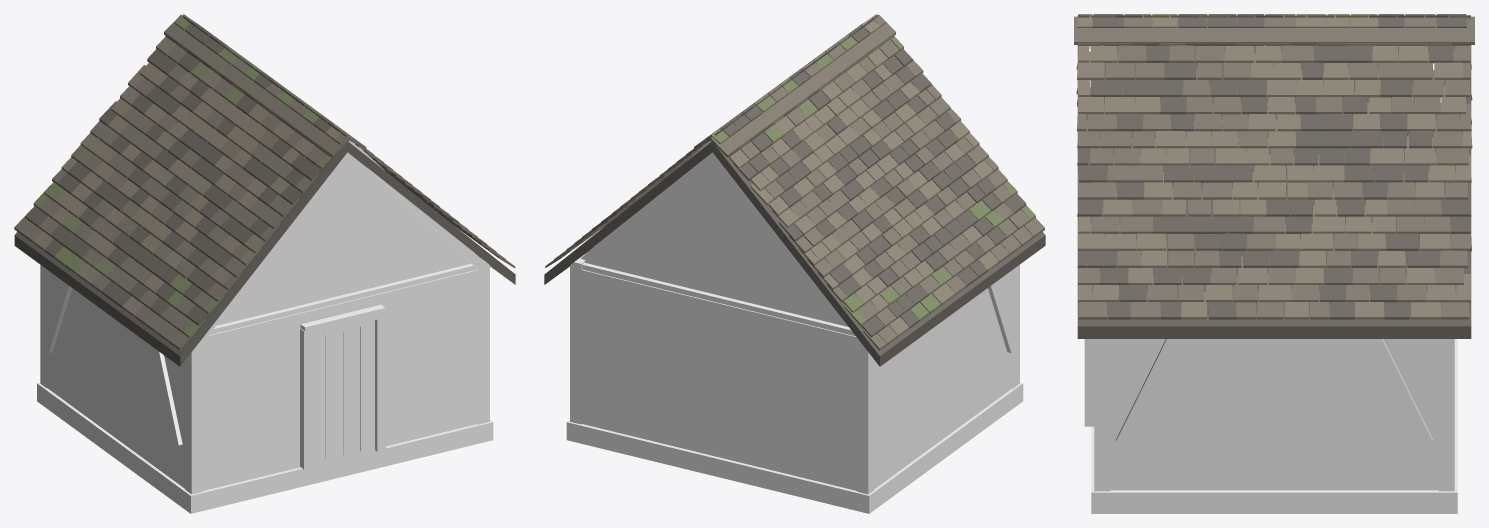
Rendered from cottage_B.glb.
3 views of the same model, side by side, from view 1: azimuth 30°, elevation 25°; view 2: azimuth 150°, elevation 25°; view 3: azimuth 270°, elevation 25° (orthographic). The views are drawn at different scales.
Parts seen in each view (by area): view 1: 09A_ShingleField.001, 08A_GableClay.002, 08A_FrontClay.003, 08A_FrontClay.002, 08A_SideClay.002, 08A_Sill.001, 08A_Door.001, 09A_Deck.002, 09A_RidgeCap.002, 08A_CornerPost.004, 08A_EndWallPlate.002, 09A_Deck.003 (+9 smaller); view 2: 09A_ShingleField.001, 08A_RearClay.001, 08A_GableClay.003, 08A_SideClay.002, 08A_Sill.001, 09A_Deck.002, 09A_RidgeCap.002, 08A_CornerPost.005, 08A_EndWallPlate.003, 09A_Deck.003, 08A_CornerPost.007, 08A_CornerPost.004 (+2 smaller); view 3: 09A_ShingleField.001, 08A_SideClay.003, 09A_Deck.003, 08A_Sill.001, 09A_RidgeCap.003, 08A_CornerPost.006, 08A_CornerPost.007, 08A_SideBrace.006, 08A_SideBrace.007, 08A_DoorJamb.003.
Boxes of the visible parts, x1,y1,x2,y2 form: 09A_ShingleField.001: (14, 14, 515, 350); 08A_GableClay.002: (216, 152, 470, 325); 08A_FrontClay.003: (373, 269, 484, 446); 08A_FrontClay.002: (197, 311, 307, 491); 08A_SideClay.002: (47, 270, 187, 488); 08A_Sill.001: (37, 382, 493, 513); 08A_Door.001: (312, 320, 374, 466); 09A_Deck.002: (14, 142, 347, 366); 09A_RidgeCap.002: (164, 15, 349, 157); 08A_CornerPost.004: (185, 341, 203, 494); 08A_EndWallPlate.002: (210, 263, 477, 334); 09A_Deck.003: (348, 141, 515, 284); 09A_ShingleField.001: (545, 14, 1044, 350); 08A_RearClay.001: (576, 268, 862, 492); 08A_GableClay.003: (584, 152, 848, 326); 08A_SideClay.002: (871, 268, 1016, 490); 08A_Sill.001: (566, 382, 1023, 513); 09A_Deck.002: (712, 142, 1045, 366); 09A_RidgeCap.002: (710, 15, 895, 157); 08A_CornerPost.005: (857, 338, 874, 494); 08A_EndWallPlate.003: (582, 263, 855, 336); 09A_Deck.003: (544, 142, 712, 284); 08A_CornerPost.007: (570, 257, 585, 424); 08A_CornerPost.004: (1013, 265, 1019, 388); 09A_ShingleField.001: (1076, 14, 1472, 319); 08A_SideClay.003: (1102, 339, 1446, 490); 09A_Deck.003: (1077, 45, 1471, 338); 08A_Sill.001: (1091, 339, 1457, 513); 09A_RidgeCap.003: (1074, 16, 1474, 44); 08A_CornerPost.006: (1094, 339, 1109, 491); 08A_CornerPost.007: (1439, 339, 1454, 491); 08A_SideBrace.006: (1116, 339, 1176, 444); 08A_SideBrace.007: (1372, 339, 1432, 444); 08A_DoorJamb.003: (1084, 339, 1094, 426).
Bounding box in the file's own units: 4.68 × 4.61 × 4.07.
